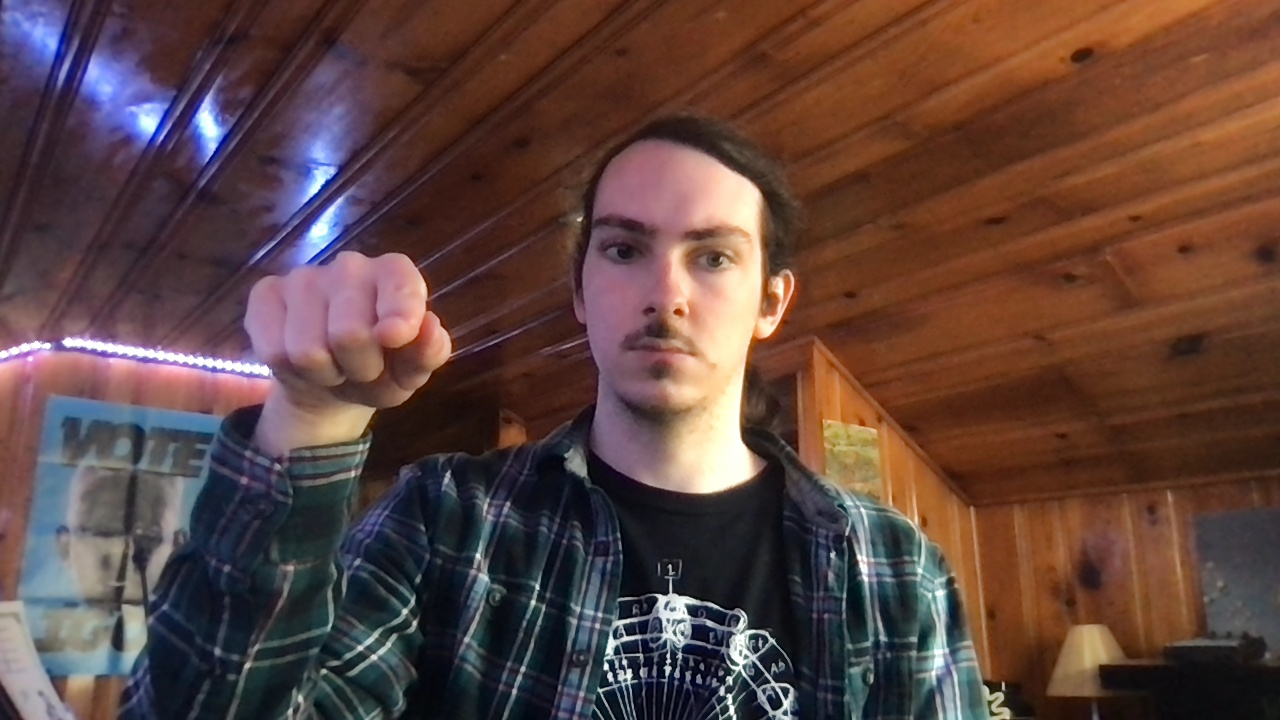q: (242, 249, 453, 411)
